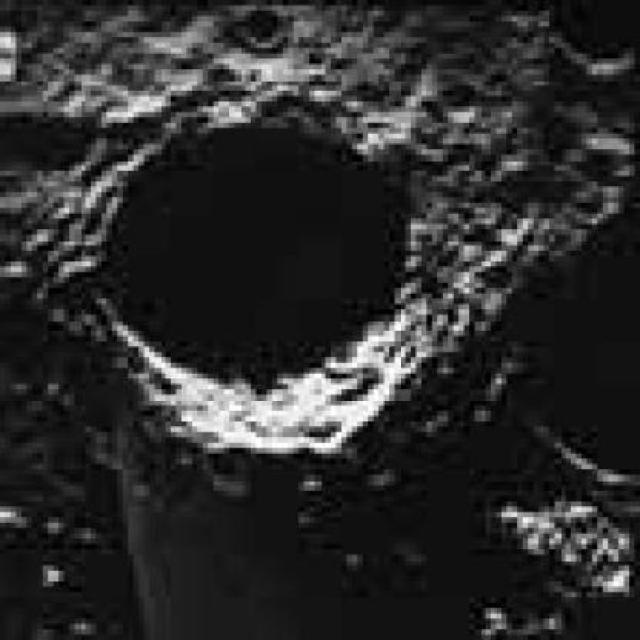crater: (85, 109, 446, 402)
